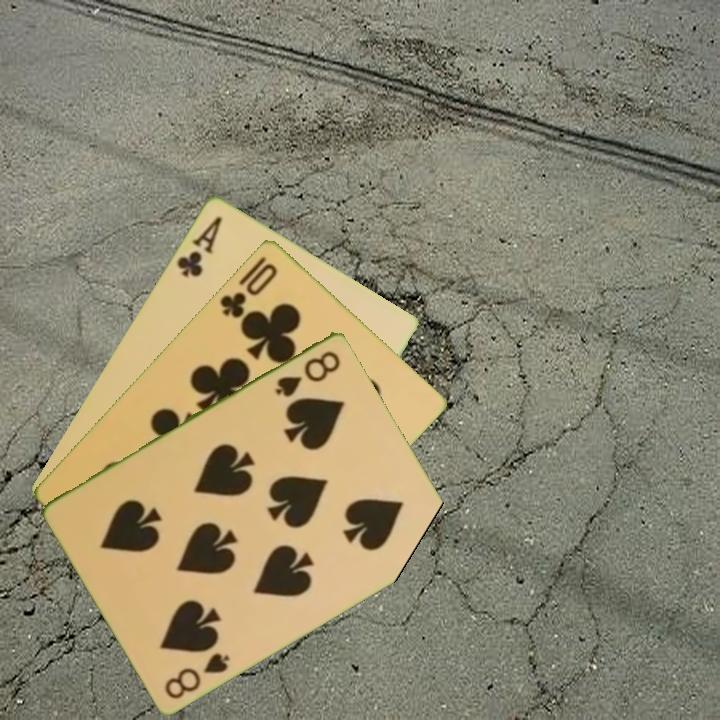10c: (216, 258, 281, 321)
8s: (272, 346, 344, 400), (161, 648, 233, 702)
Ac: (173, 212, 225, 280)
